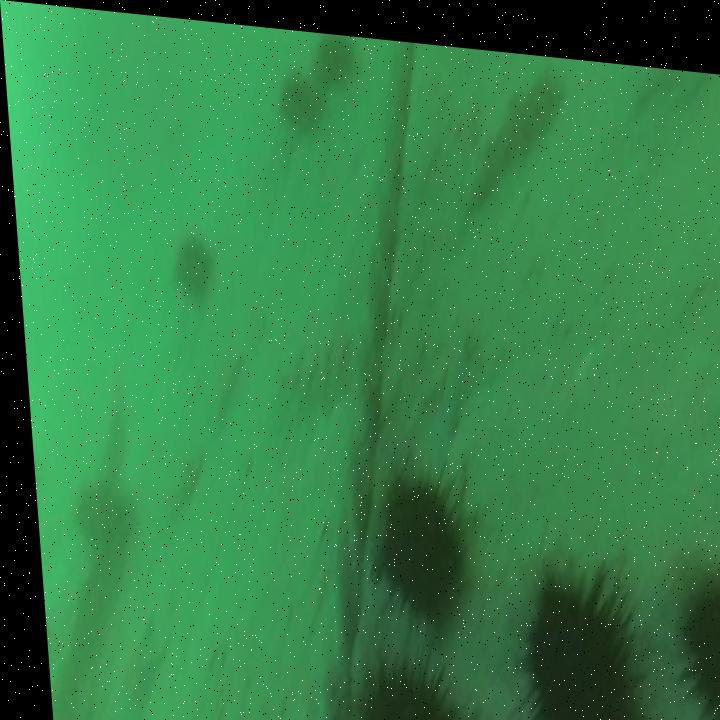echinus: (511, 567, 629, 720), (367, 469, 459, 600), (674, 570, 720, 720), (335, 667, 451, 720), (276, 63, 320, 124), (164, 235, 208, 293), (312, 27, 357, 79)
holothurian: (452, 51, 571, 210)
